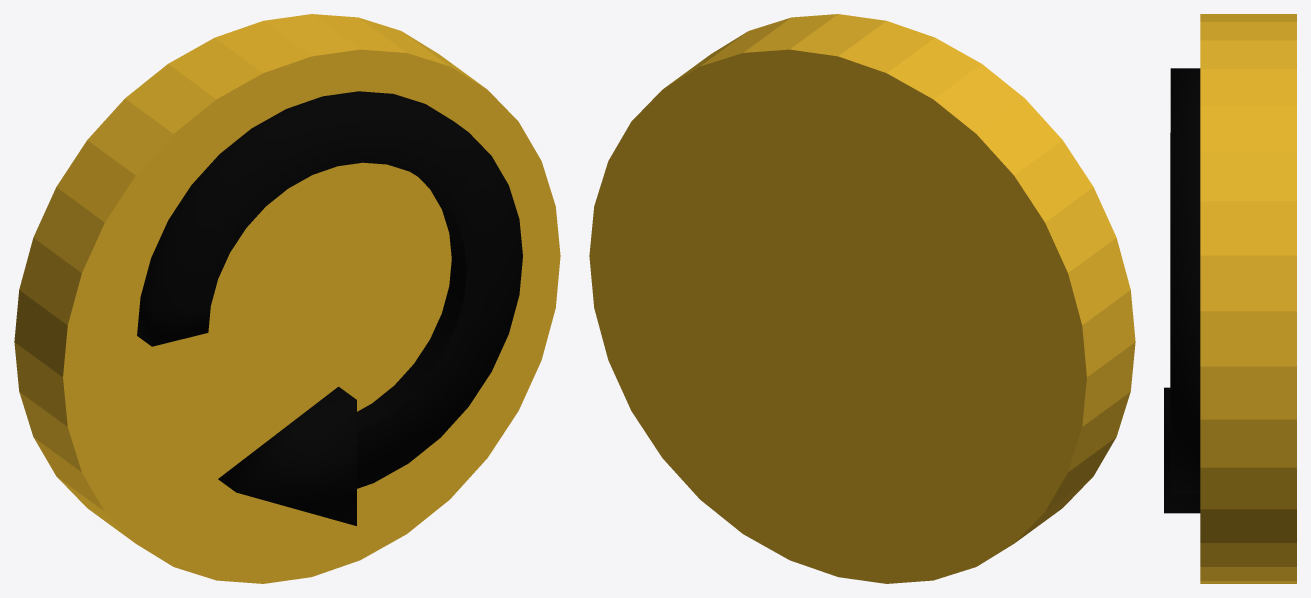
File: timesupReset.fbx
3 renders of one model, left to right at view 1: azimuth 30°, elevation 25°; view 2: azimuth 150°, elevation 25°; view 3: azimuth 270°, elevation 25°, orthographic.
Parts seen in each view (by area): view 1: Reset; view 2: Reset; view 3: Reset.
Part boxes in pixels (x1,y1,x2,y2): Reset: (14, 14, 560, 583); Reset: (589, 14, 1135, 583); Reset: (1164, 14, 1296, 583).
Bounding box in the file's own units: 20 × 20 × 4.66.
